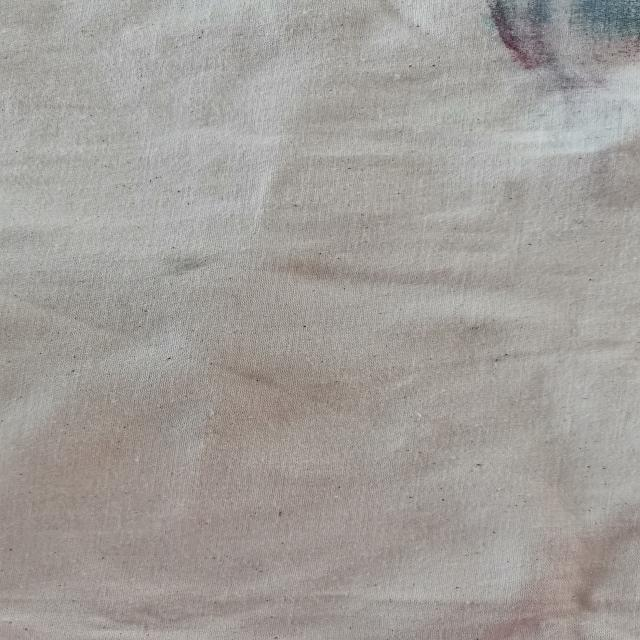taaaches: (472, 0, 640, 110), (150, 245, 264, 293)
